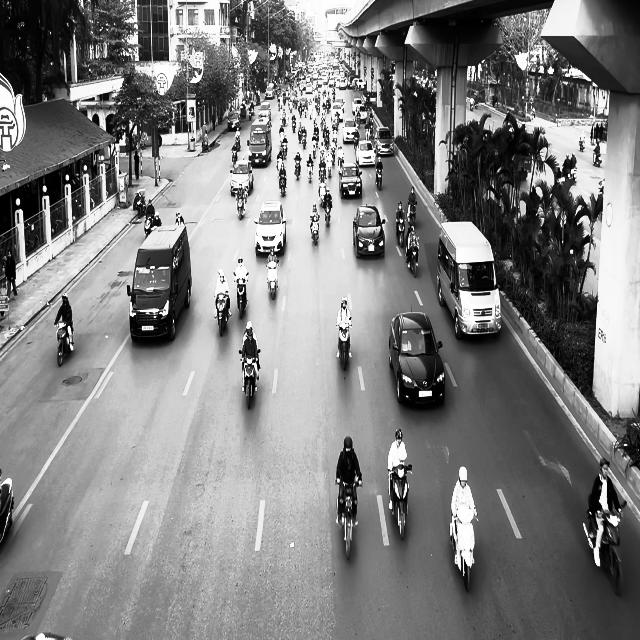bus: (436, 220, 502, 339)
car: (388, 310, 446, 406), (352, 204, 386, 258), (254, 200, 286, 255), (230, 159, 254, 196), (339, 162, 362, 198), (374, 126, 394, 156), (355, 139, 376, 167), (343, 118, 358, 143), (227, 111, 241, 130)
motorbike: (582, 500, 627, 596), (449, 507, 478, 592), (336, 477, 362, 559), (388, 464, 412, 539), (239, 348, 260, 409), (0, 469, 14, 545), (54, 320, 74, 366), (336, 318, 352, 371), (214, 293, 230, 337), (234, 272, 248, 318), (266, 258, 279, 299), (406, 236, 419, 277), (235, 190, 246, 219), (396, 216, 405, 246), (310, 216, 319, 245), (278, 168, 287, 196), (323, 198, 332, 226), (375, 164, 383, 189), (294, 156, 301, 180), (593, 148, 602, 166)
truck: (126, 223, 192, 342)
